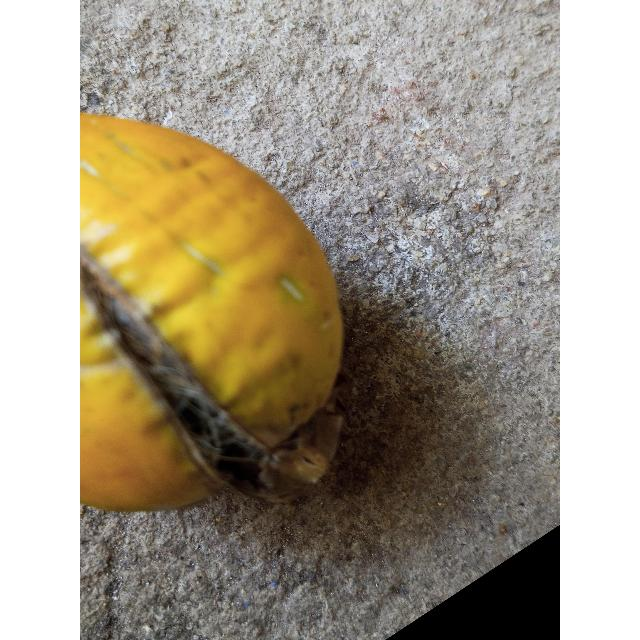damaged: (80, 112, 345, 514)
